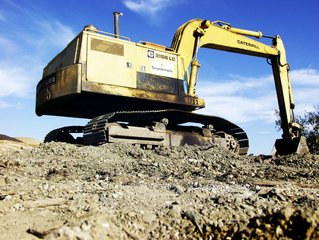excavator: (33, 19, 312, 162)
